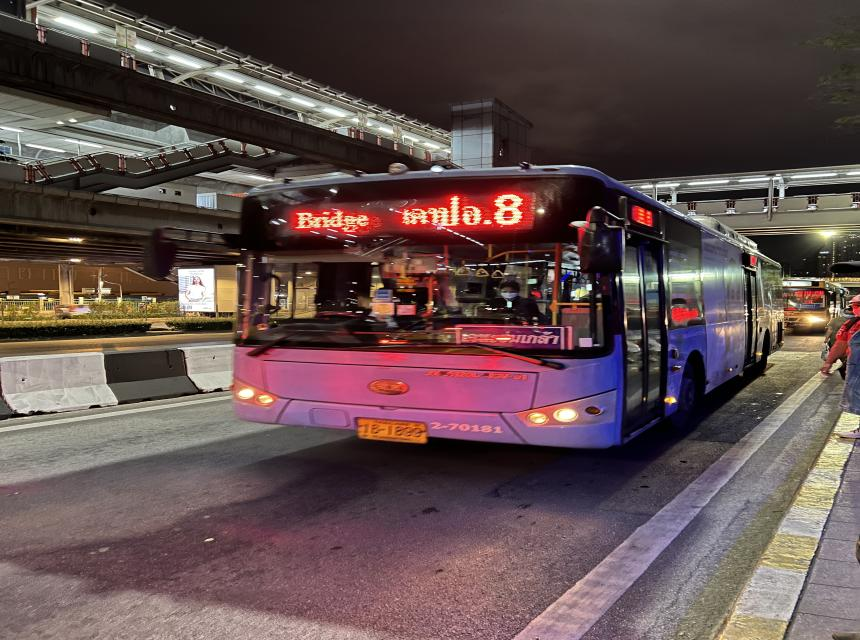BMTA-bus: (226, 166, 781, 453)
Bus Line Number: (438, 188, 531, 230)
Bus Side Number: (427, 414, 509, 438)
Destination Sign: (457, 323, 573, 349)
